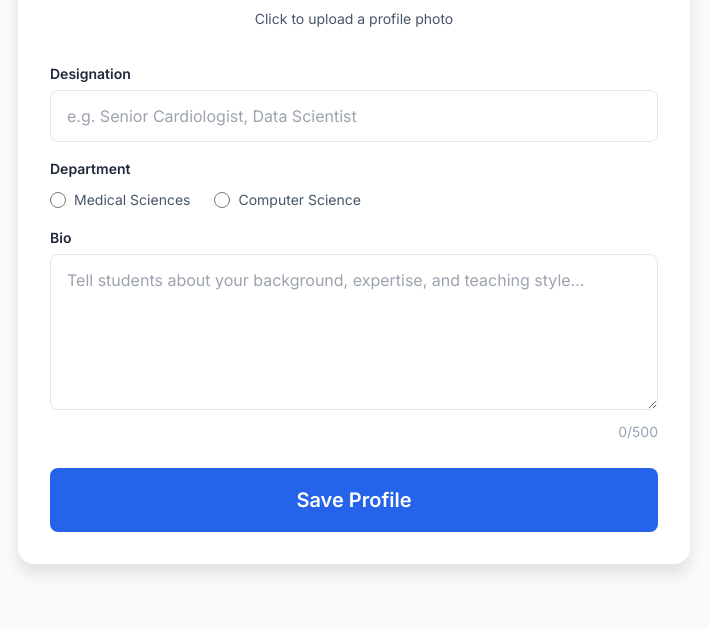
TeacherOnboarding › validation › shows bio error when bio is too short
(page scrolled)
In the text box labelled "Bio": (354, 332) [50,254,658,410], type "Too short"
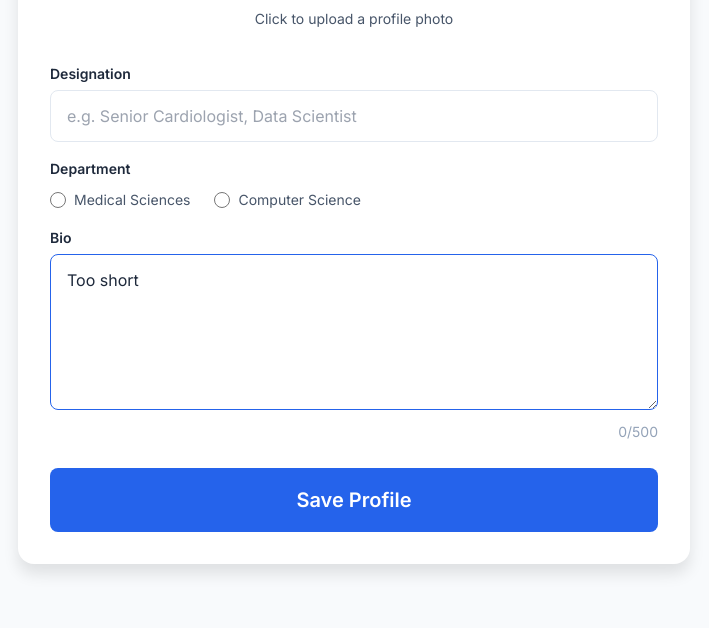
Click the button "Save Profile": click(354, 500) [50,468,658,532]
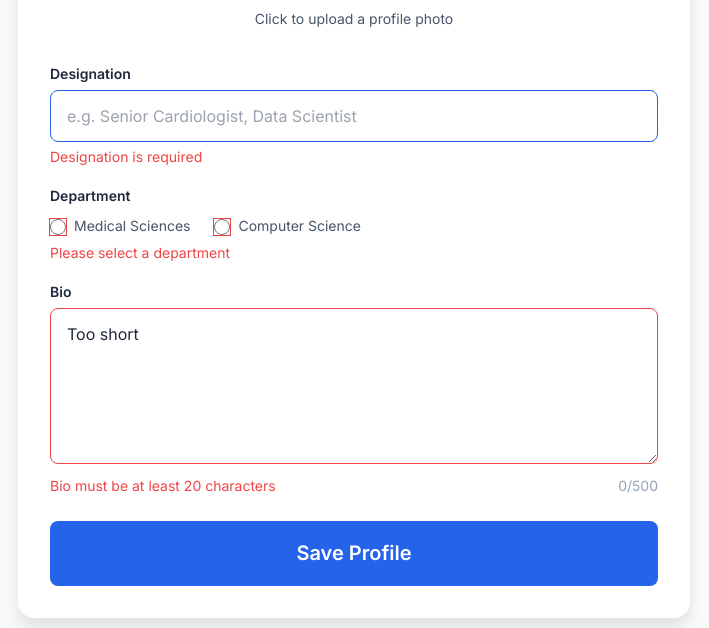
expect the text "Bio must be at least 20 characters" is shown: met, box [50,475,276,497]
